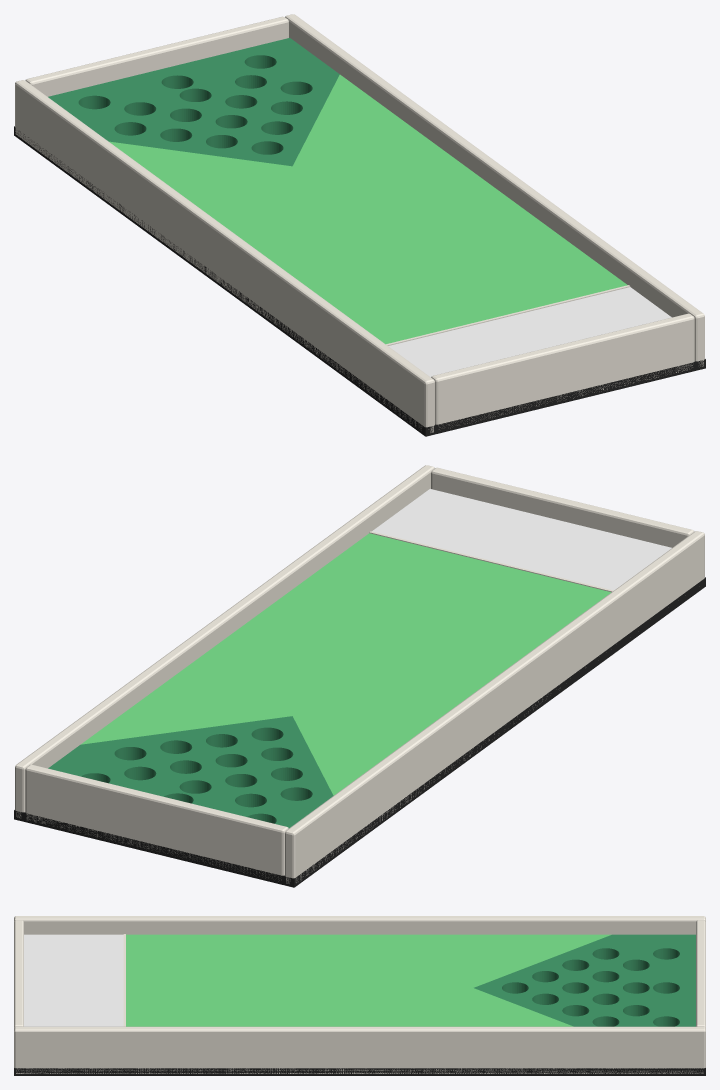
File: board.glb
3 renders of one model, top to bottom at view 1: azimuth 30°, elevation 25°; view 2: azimuth 150°, elevation 25°; view 3: azimuth 270°, elevation 25°, orthographic. The views are drawn at different scales.
Parts seen in each view (by area): view 1: Field_Light, Rail_Left, Field_Dark, Rail_Bottom, Rail_Right, Launch_Zone, Rail_Top, Base, Launch_Line; view 2: Field_Light, Rail_Left, Field_Dark, Launch_Zone, Rail_Top, Rail_Right, Base, Rail_Bottom, Launch_Line; view 3: Field_Light, Rail_Right, Field_Dark, Rail_Left, Launch_Zone, Base, Rail_Bottom, Rail_Top, Launch_Line.
Boxes of the visible parts, left/top/right/bottom form: Field_Light: left=109, top=74, right=627, bottom=344; Rail_Left: left=15, top=80, right=434, bottom=432; Field_Dark: left=48, top=38, right=339, bottom=166; Rail_Bottom: left=431, top=313, right=694, bottom=429; Rail_Right: left=285, top=14, right=704, bottom=366; Launch_Zone: left=388, top=287, right=671, bottom=377; Rail_Top: left=25, top=16, right=288, bottom=96; Base: left=14, top=126, right=705, bottom=436; Launch_Line: left=386, top=285, right=630, bottom=345; Field_Light: left=81, top=533, right=610, bottom=795; Rail_Left: left=285, top=531, right=704, bottom=883; Field_Dark: left=48, top=716, right=333, bottom=828; Launch_Zone: left=372, top=489, right=671, bottom=590; Rail_Top: left=25, top=764, right=288, bottom=881; Rail_Right: left=15, top=465, right=434, bottom=818; Base: left=14, top=577, right=705, bottom=887; Rail_Bottom: left=431, top=467, right=694, bottom=547; Launch_Line: left=369, top=531, right=613, bottom=592; Field_Light: left=126, top=934, right=611, bottom=1026; Rail_Right: left=14, top=1026, right=705, bottom=1073; Field_Dark: left=474, top=934, right=695, bottom=1026; Rail_Left: left=14, top=916, right=705, bottom=934; Launch_Zone: left=24, top=934, right=123, bottom=1026; Base: left=14, top=1068, right=705, bottom=1075; Rail_Bottom: left=14, top=920, right=23, bottom=1027; Rail_Top: left=696, top=920, right=705, bottom=1027; Launch_Line: left=123, top=934, right=125, bottom=1026.
Size of the model in its own units: 3.24 by 0.6 by 8.24.
